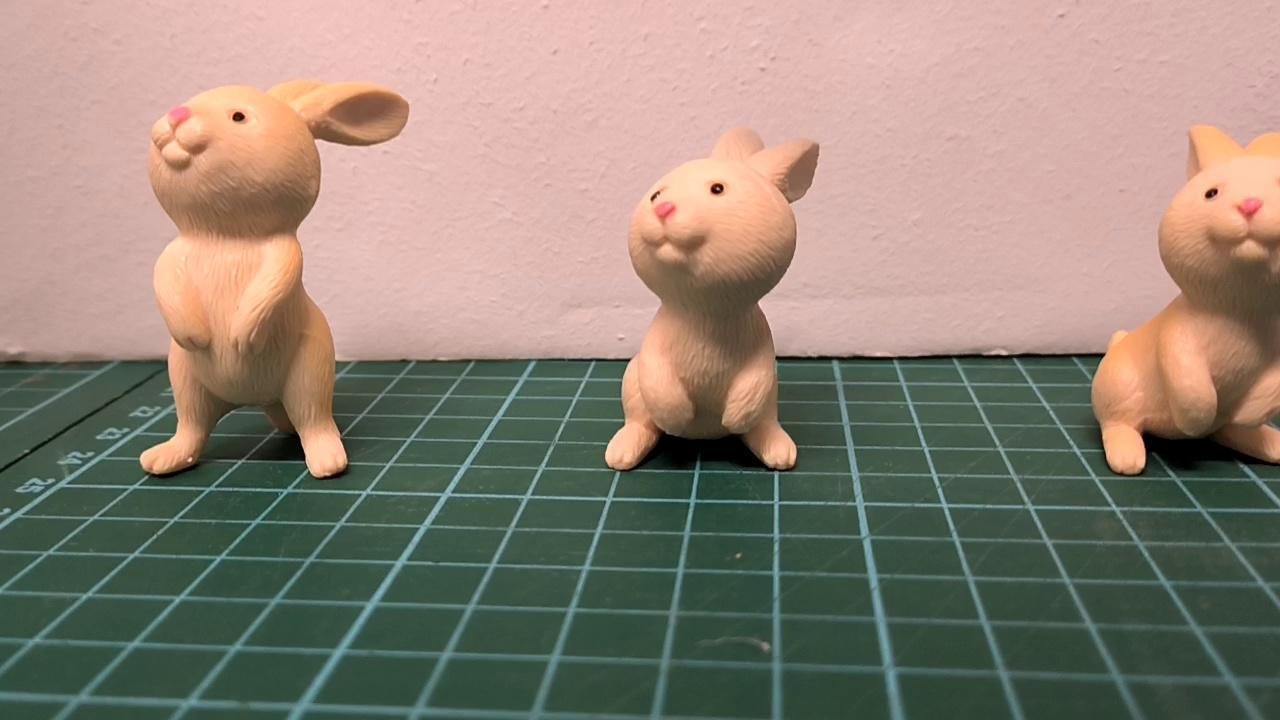pet: (138, 79, 408, 479), (605, 123, 822, 472), (1090, 119, 1280, 475)
